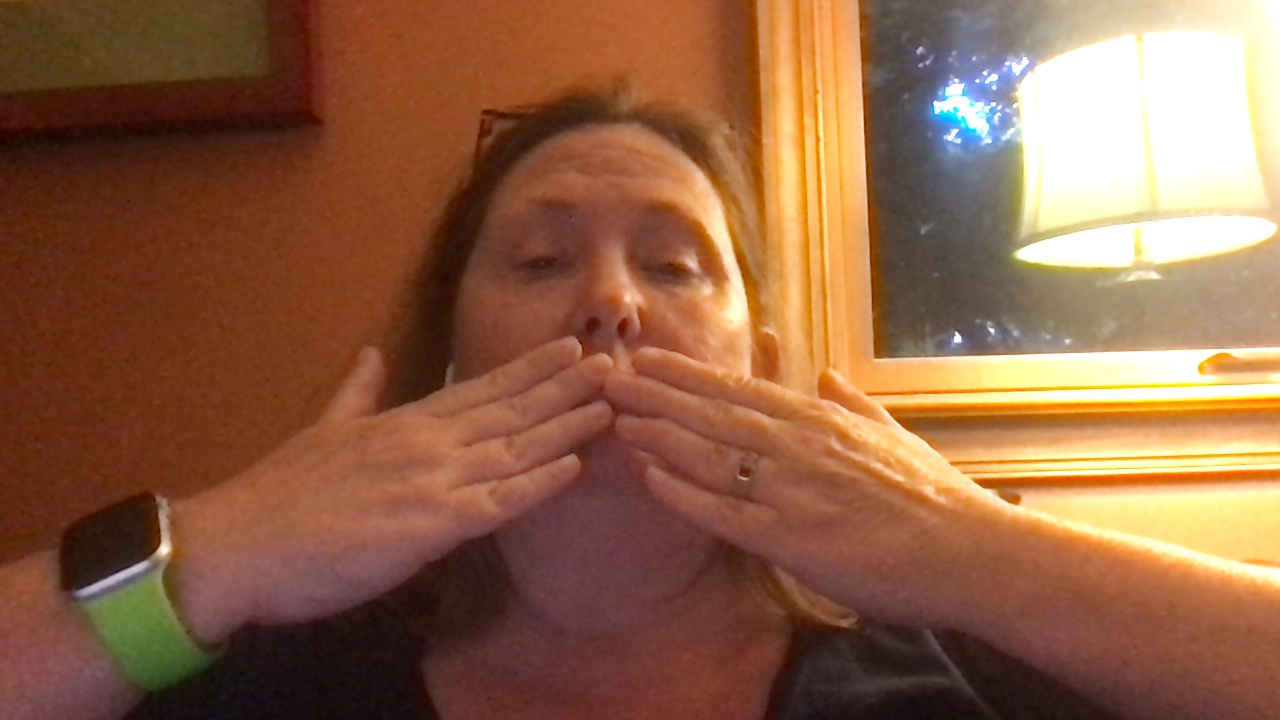thankyou: (252, 339, 984, 628)
